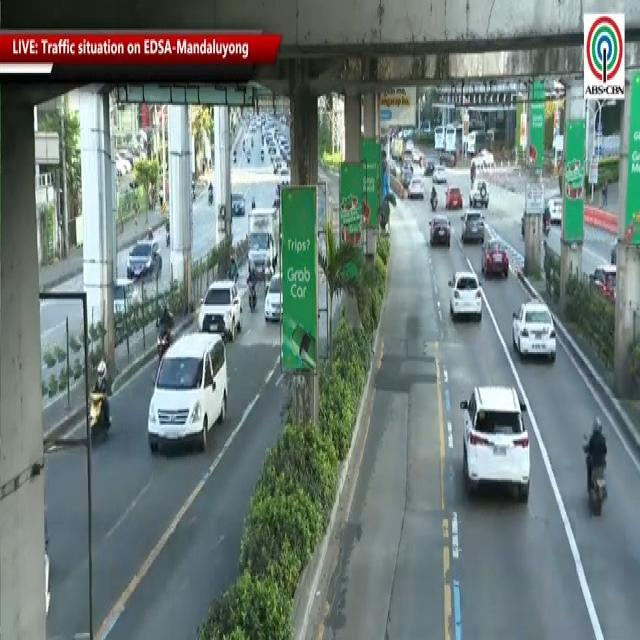car: (145, 320, 231, 473), (453, 375, 538, 507), (517, 294, 561, 374), (196, 276, 245, 340), (446, 269, 486, 327), (124, 237, 166, 284), (480, 233, 505, 286), (458, 206, 488, 247), (426, 217, 455, 252), (230, 187, 244, 222)
motorbike: (581, 404, 611, 527), (82, 341, 113, 430), (151, 298, 173, 375)
truck: (242, 201, 284, 285)
